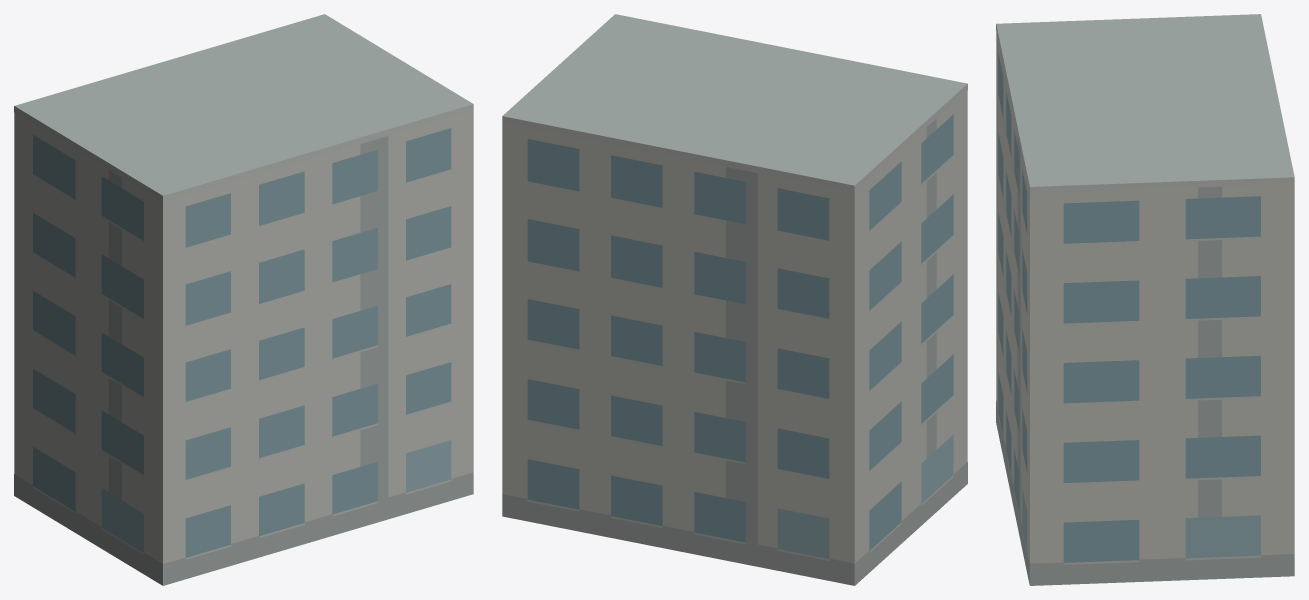
Rendered from survey-upis-32620225.glb.
3 views of the same model, side by side, from view 1: azimuth 30°, elevation 25°; view 2: azimuth 150°, elevation 25°; view 3: azimuth 270°, elevation 25° (orthographic). The views are drawn at different scales.
Parts seen in each view (by area): view 1: survey-upis-32620225.tmp; view 2: survey-upis-32620225.tmp; view 3: survey-upis-32620225.tmp.
Part boxes in pixels (bbox=[...]): survey-upis-32620225.tmp: bbox=[14, 14, 473, 585]; survey-upis-32620225.tmp: bbox=[502, 14, 967, 585]; survey-upis-32620225.tmp: bbox=[996, 14, 1294, 585].
Size of the model in its own units: 13.63 by 14.65 by 9.95.
